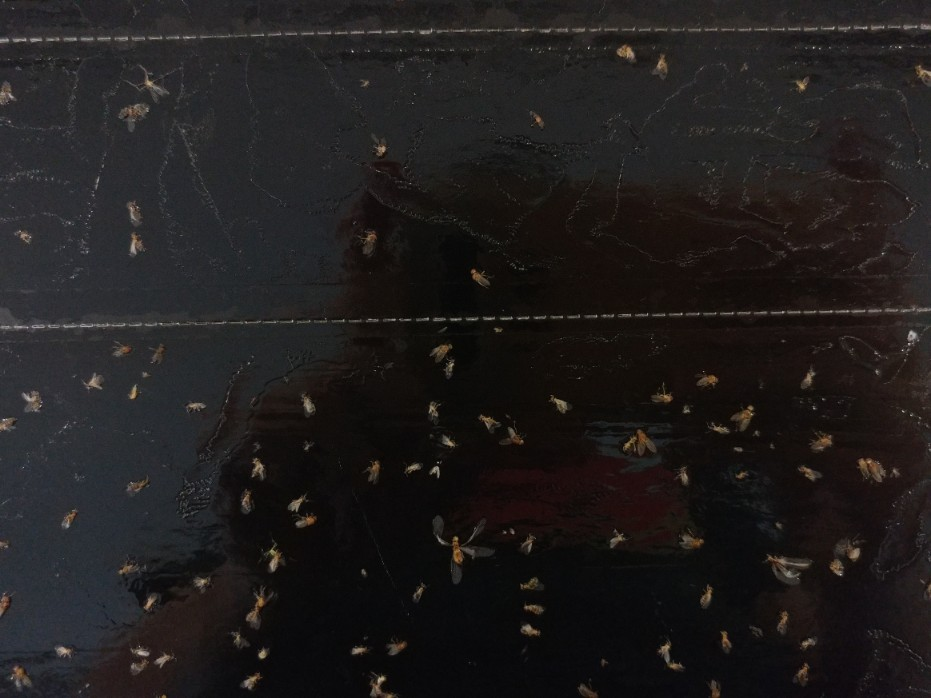termite: (425, 510, 497, 580)
